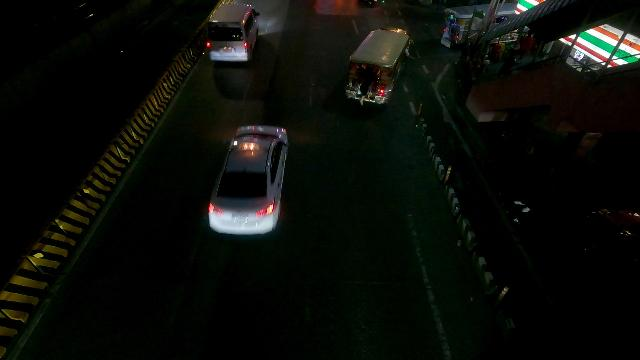car: (208, 125, 289, 234)
jeepney: (346, 27, 411, 104), (439, 5, 480, 45)
van: (206, 3, 259, 61)
